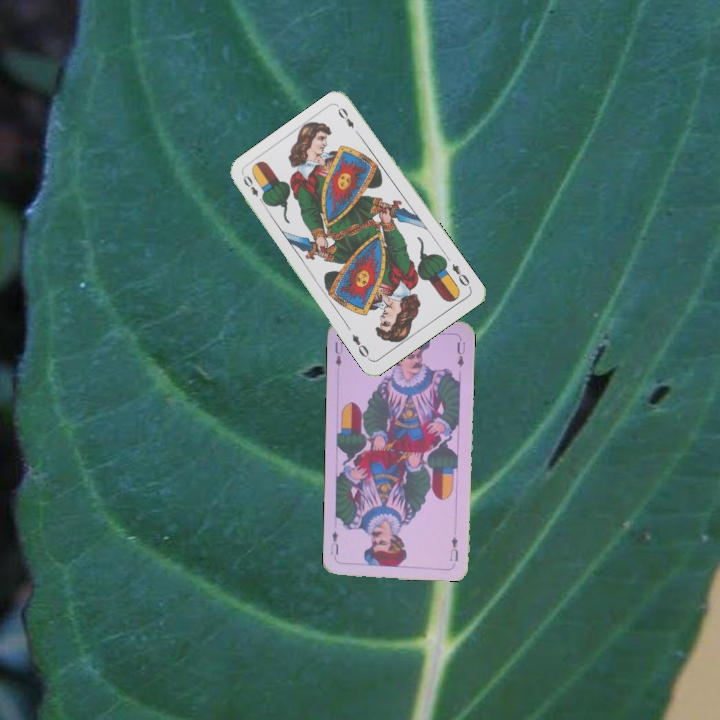EO: (239, 171, 268, 207), (448, 260, 474, 291)
EU: (331, 337, 346, 369), (446, 533, 460, 564)
